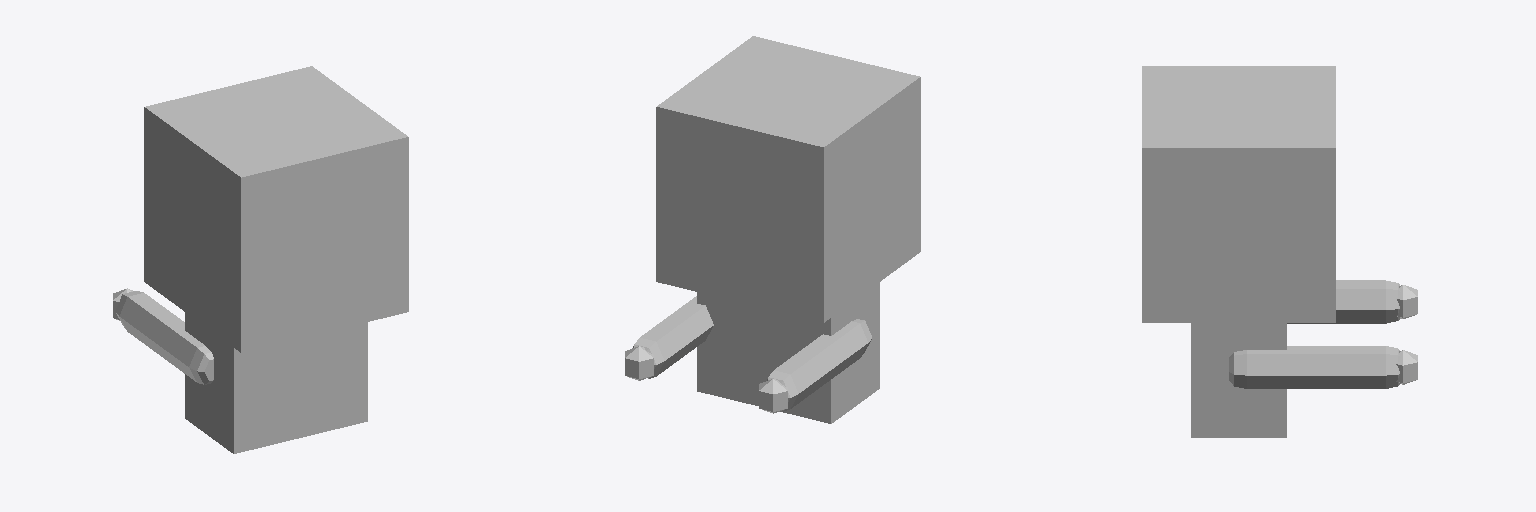
Rendered from knackleslow.obj.
3 renders of one model, left to right at view 1: azimuth 30°, elevation 25°; view 2: azimuth 150°, elevation 25°; view 3: azimuth 270°, elevation 25°, orthographic.
Visible parts, largest first — view 1: Cube, Cube.1, Cylinder.2; view 2: Cube, Cube.1, Cylinder.2, Cylinder, Sphere, Sphere.1; view 3: Cube, Cube.1, Cylinder, Cylinder.2, Sphere.1, Sphere.
Boxes of the visible parts, x1,y1,x2,y2 form: Cube: [144, 66, 408, 352]; Cube.1: [185, 312, 367, 453]; Cylinder.2: [115, 291, 213, 384]; Cube: [656, 36, 920, 322]; Cube.1: [697, 282, 879, 423]; Cylinder.2: [767, 319, 871, 411]; Cylinder: [633, 296, 713, 378]; Sphere: [759, 379, 787, 413]; Sphere.1: [625, 346, 653, 380]; Cube: [1142, 66, 1335, 322]; Cube.1: [1191, 323, 1286, 437]; Cylinder: [1229, 346, 1400, 388]; Cylinder.2: [1287, 280, 1400, 323]; Sphere.1: [1396, 350, 1417, 384]; Sphere: [1396, 285, 1417, 318].
Size of the model in its own units: 10 by 17.02 by 14.25.